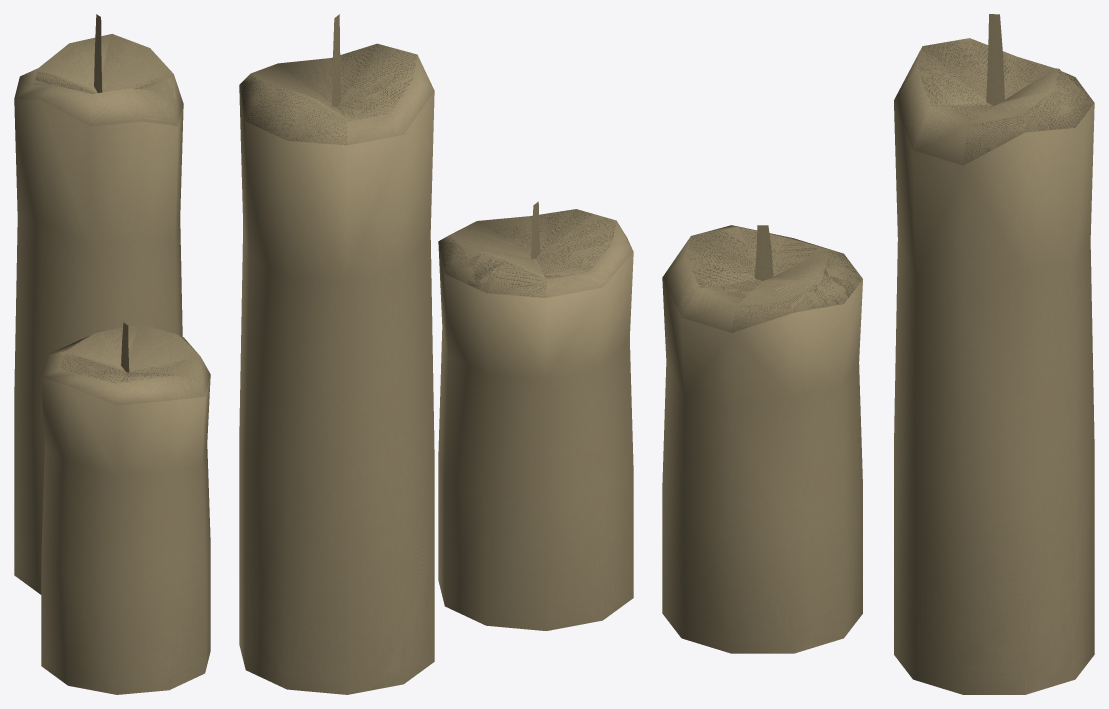
File: Candle.fbx
3 renders of one model, left to right at view 1: azimuth 30°, elevation 25°; view 2: azimuth 150°, elevation 25°; view 3: azimuth 270°, elevation 25°, orthographic. The views are drawn at different scales.
Parts seen in each view (by area): view 1: Group1; view 2: Group1; view 3: Group1.
Part boxes in pixels (bbox=[...]): Group1: bbox=[14, 14, 210, 694]; Group1: bbox=[239, 14, 633, 694]; Group1: bbox=[662, 14, 1094, 694].
Size of the model in its own units: 3.54 by 8.68 by 5.31.
